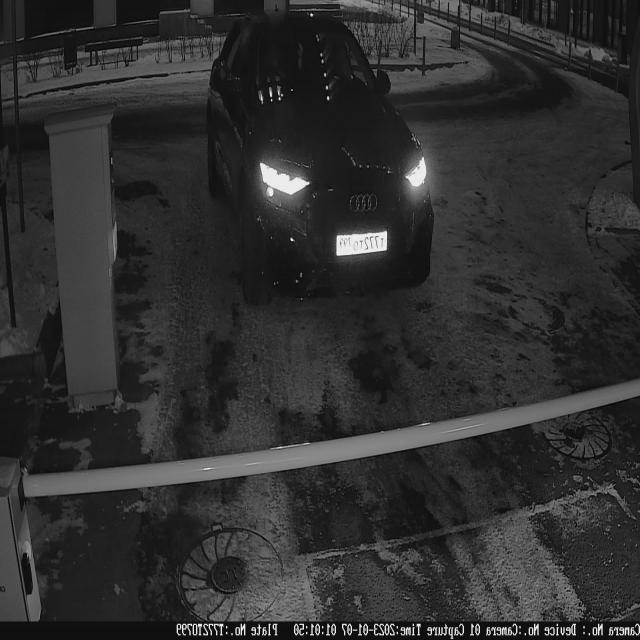car-plate-numbers: (335, 225, 392, 263)
